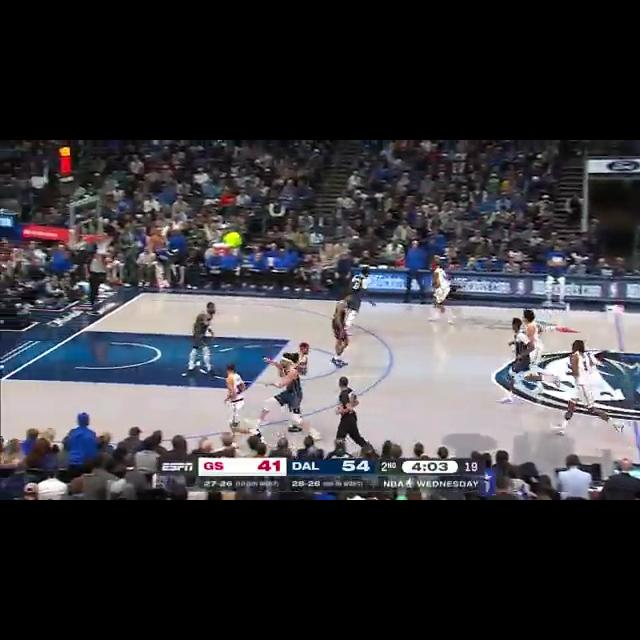Team-1-Player: (260, 352, 320, 442), (184, 300, 222, 382), (505, 316, 539, 404), (328, 290, 356, 370), (342, 266, 378, 322)
Team-2-Player: (548, 338, 626, 442), (220, 359, 262, 441), (427, 262, 453, 326), (520, 307, 546, 365)
